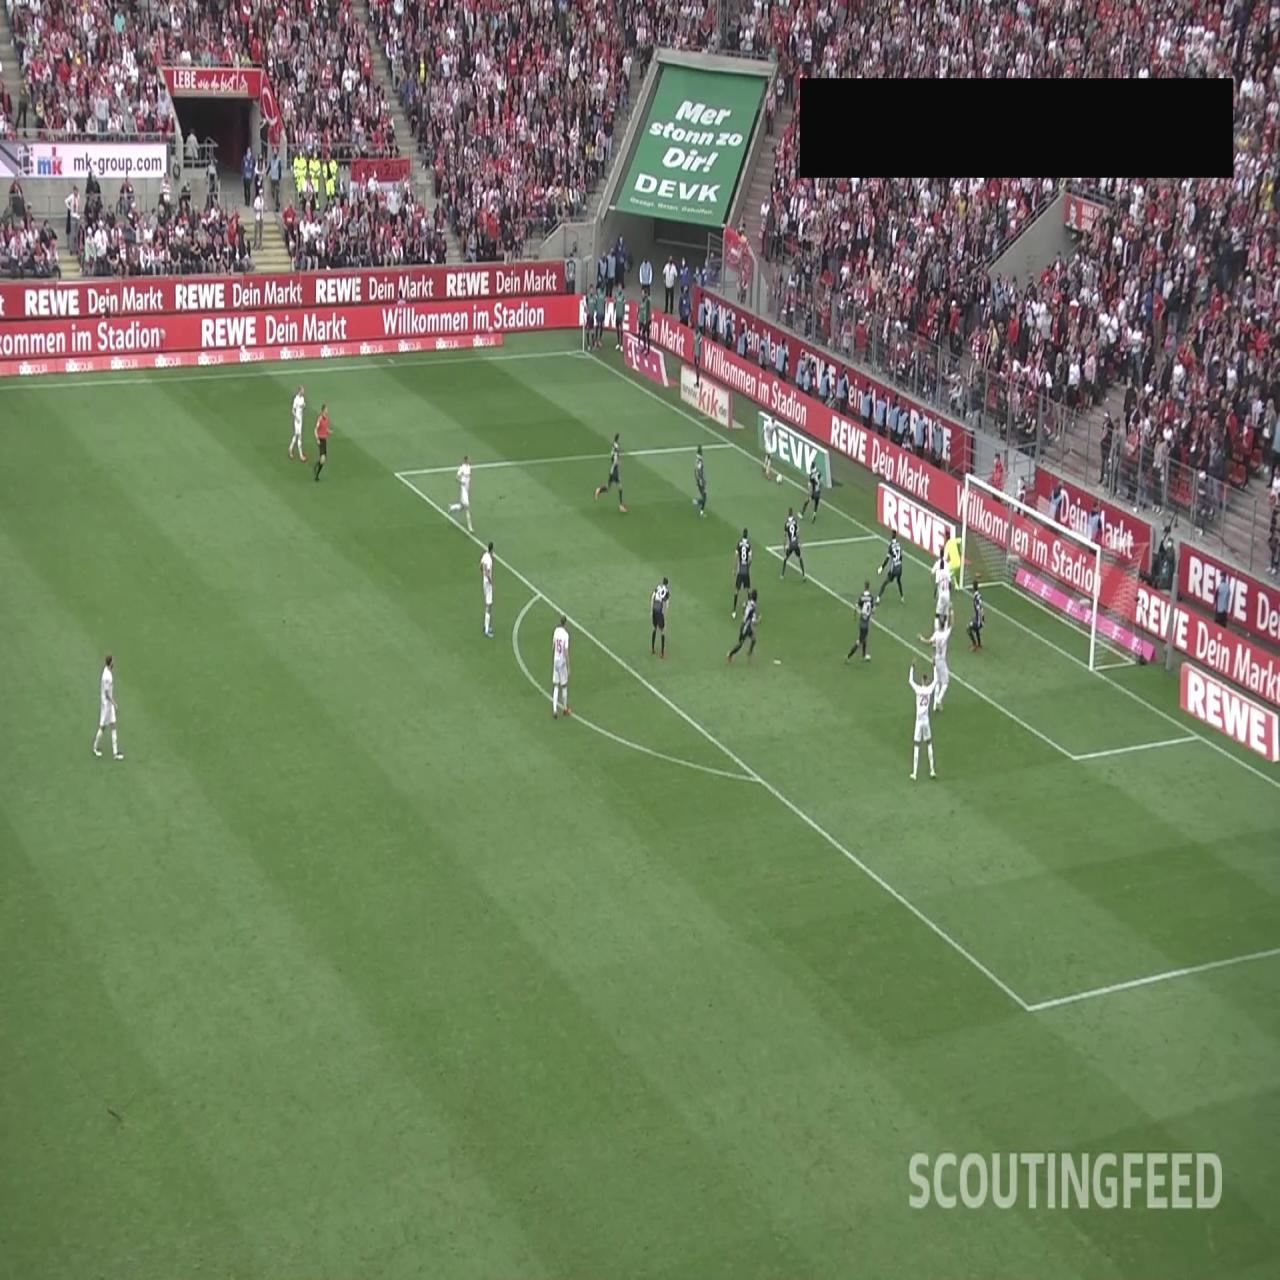ball: (775, 473, 784, 486)
goalkeeper: (944, 526, 962, 589)
player: (908, 658, 938, 781), (918, 612, 953, 712), (93, 653, 124, 760), (726, 588, 763, 666), (594, 432, 628, 514), (845, 578, 877, 662), (447, 452, 474, 534), (551, 614, 572, 718), (779, 506, 807, 583), (876, 530, 905, 603), (731, 526, 753, 619), (932, 544, 954, 631), (650, 576, 671, 659), (479, 540, 495, 636), (288, 383, 307, 462), (968, 574, 986, 652), (799, 468, 822, 523), (762, 415, 778, 480), (693, 444, 707, 518)
referee: (312, 402, 332, 481)
